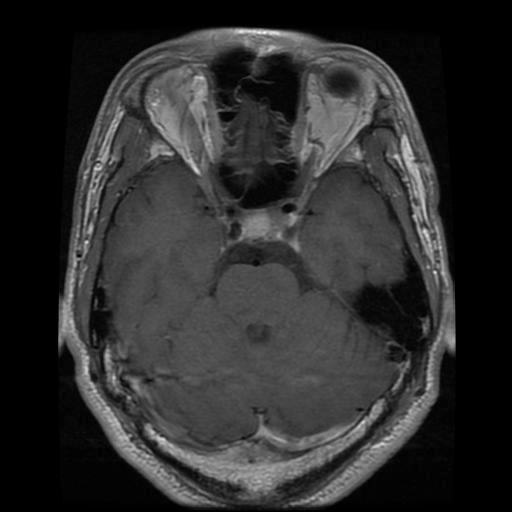Tumour-Pituitary: (211, 200, 322, 259)
